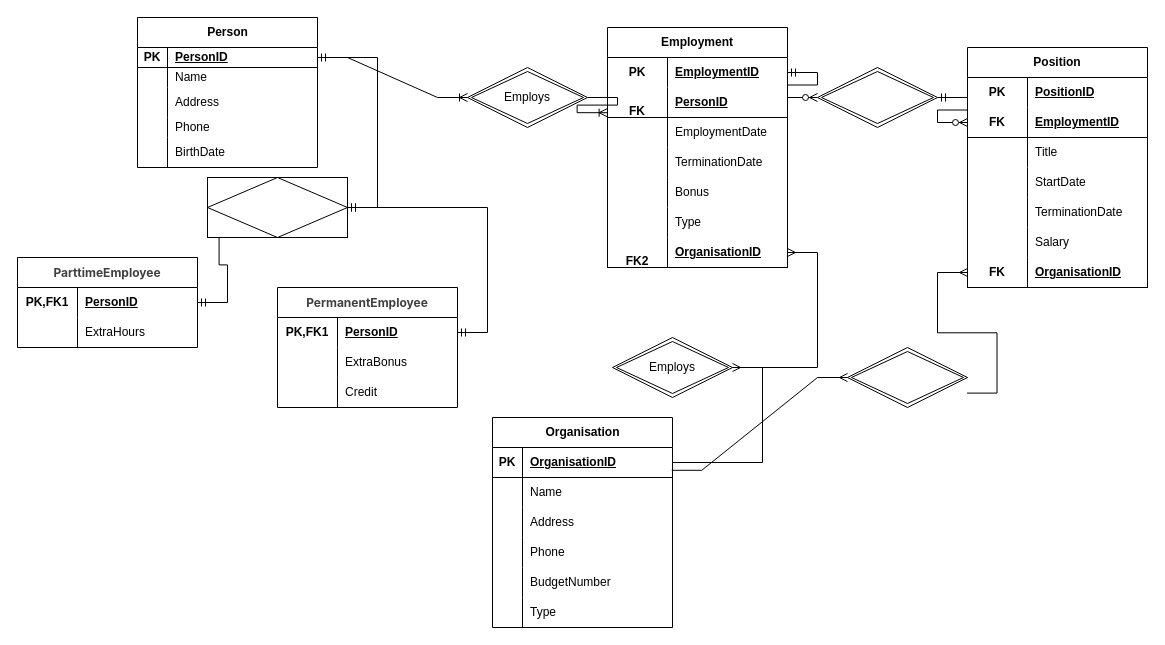
Image size: 1165x645. Some labels were removed from this diagram. The shapes that lost their labels are listed below. From the top down, each one's centre as x and y in pixels, then its label:
At point (877, 97): "Holds".
At point (277, 207): "Specialised as".
At point (907, 377): "Responsible for".
